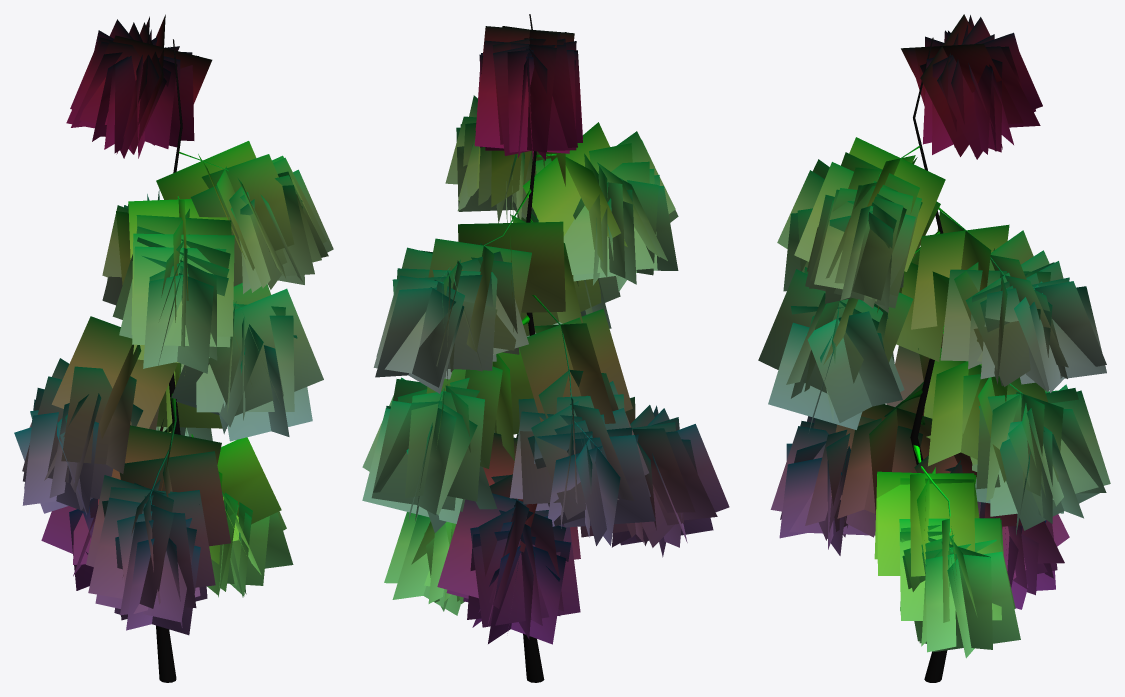
The model's file is URP_P13_Tree_1_LOD_2.fbx.
3 renders of one model, left to right at view 1: azimuth 30°, elevation 25°; view 2: azimuth 150°, elevation 25°; view 3: azimuth 270°, elevation 25°, orthographic. The views are drawn at different scales.
Visible parts, largest first — view 1: Tree_1_LOD_2; view 2: Tree_1_LOD_2; view 3: Tree_1_LOD_2.
Part boxes in pixels (bbox=[...]): Tree_1_LOD_2: bbox=[14, 14, 333, 682]; Tree_1_LOD_2: bbox=[362, 14, 729, 682]; Tree_1_LOD_2: bbox=[758, 14, 1110, 682].
Bounding box in the file's own units: 326 × 786 × 388.
